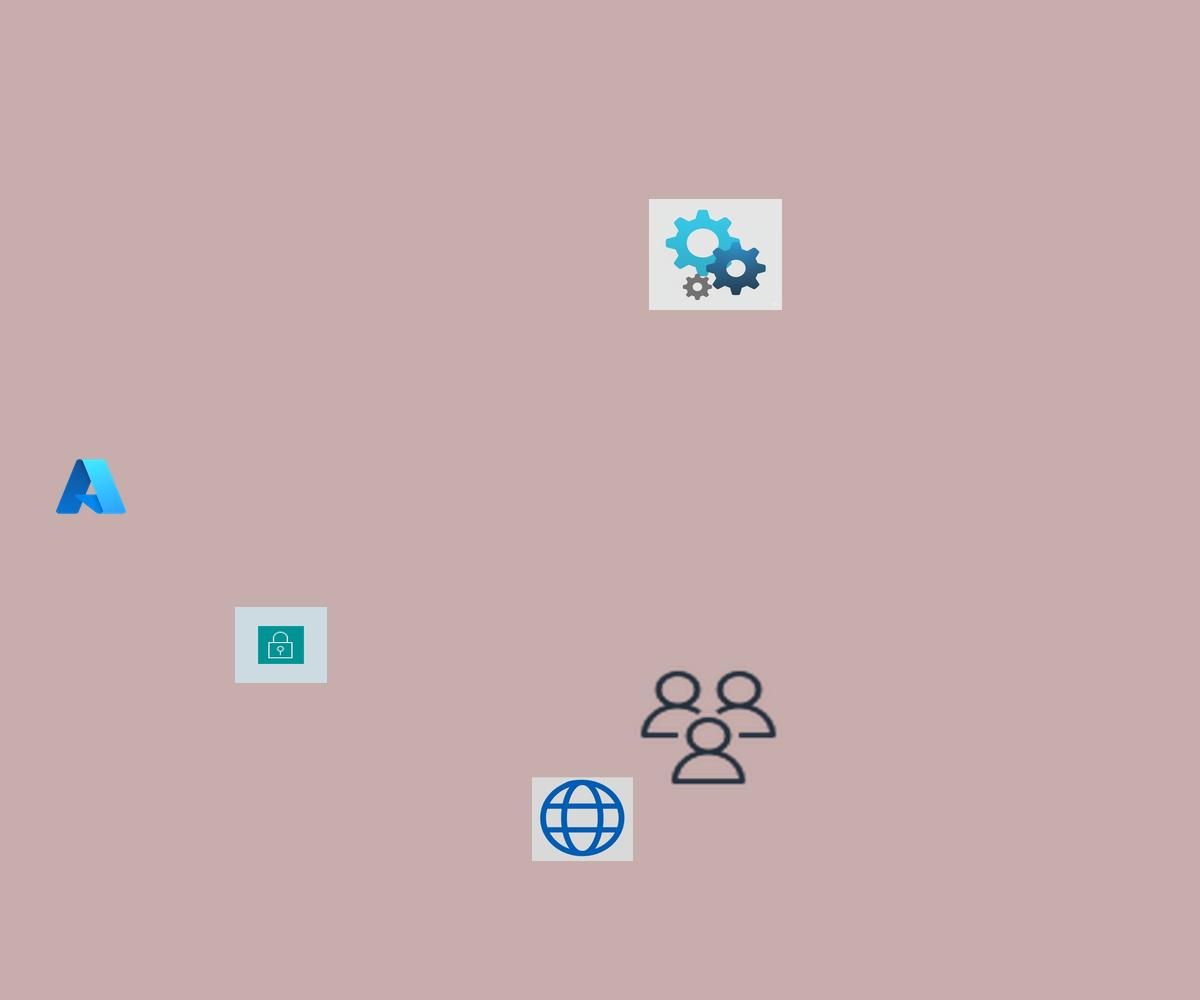AWS-Private-subnet: (235, 607, 327, 683)
AWS-Res_Users: (635, 666, 782, 789)
Azure_api: (649, 199, 782, 310)
Azure_http: (532, 777, 633, 861)
Azure_services: (53, 455, 129, 518)
